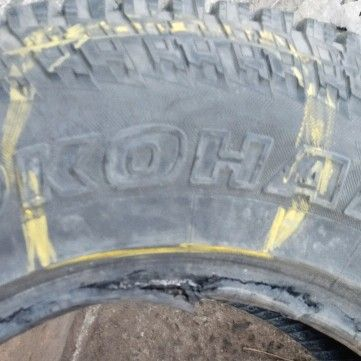bead_damage: (1, 261, 360, 352)
